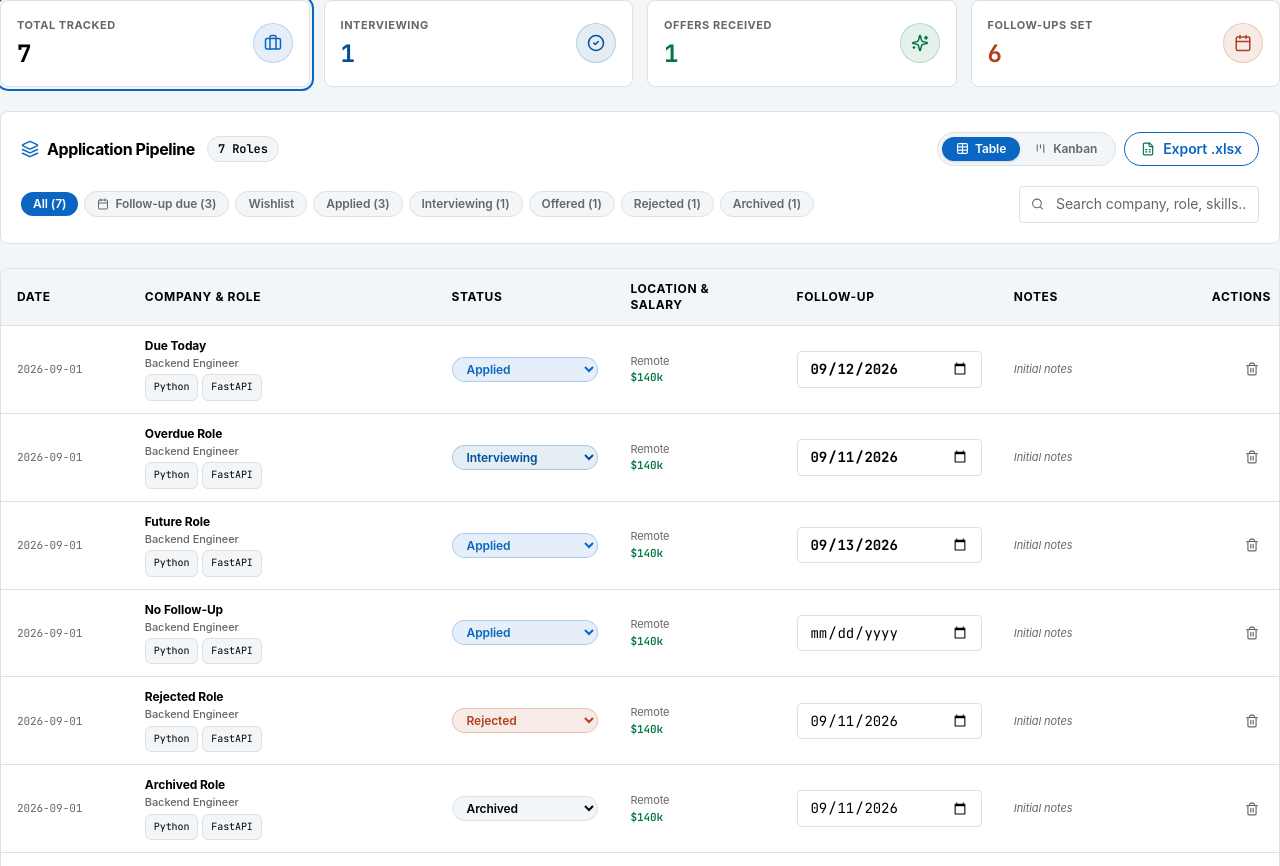
Scenario: ApplicationsTracker state synchronization and local dates (B12, B13, B15) › uses the Offers Received 1 card to replace existing filters and search
The width and height of the screenshot is (1280, 866).
Click the button "Follow-up due (3)" at [157, 204], box [84,192,230,218]
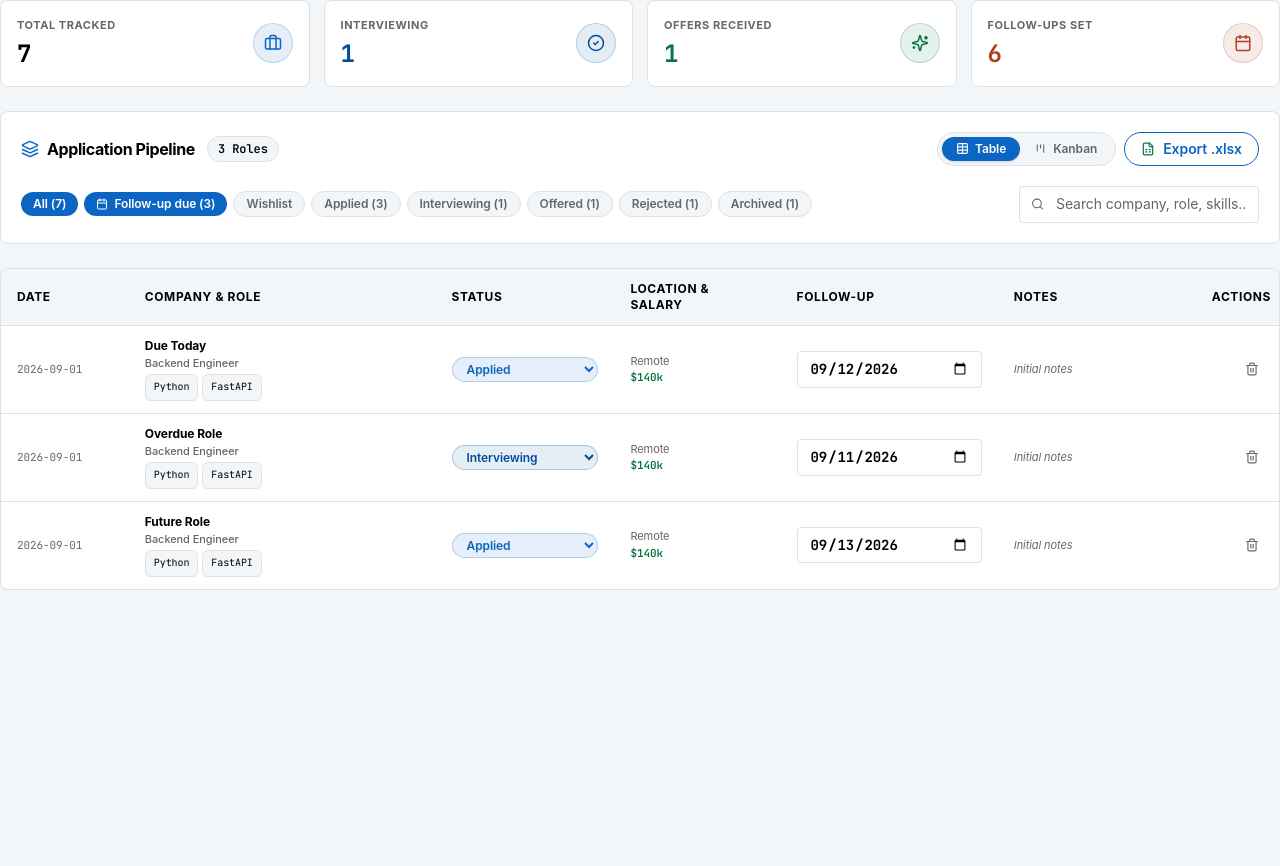
Click the button "Applied (3)" at [356, 204], box [311,192,401,218]
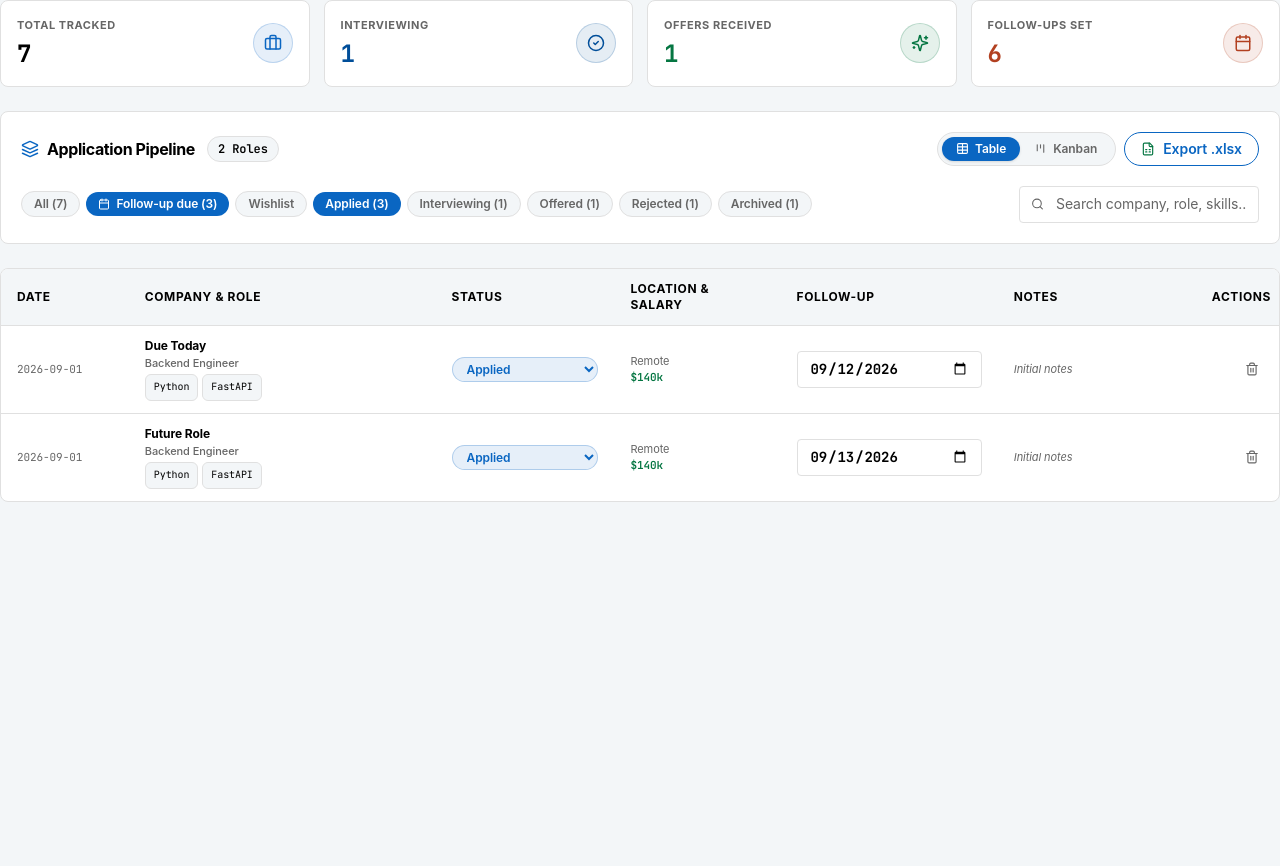
Type "nonmatching search" into the field with placeholder "Search company, role, skills..." at [1139, 205], box [1019,186,1259,223]
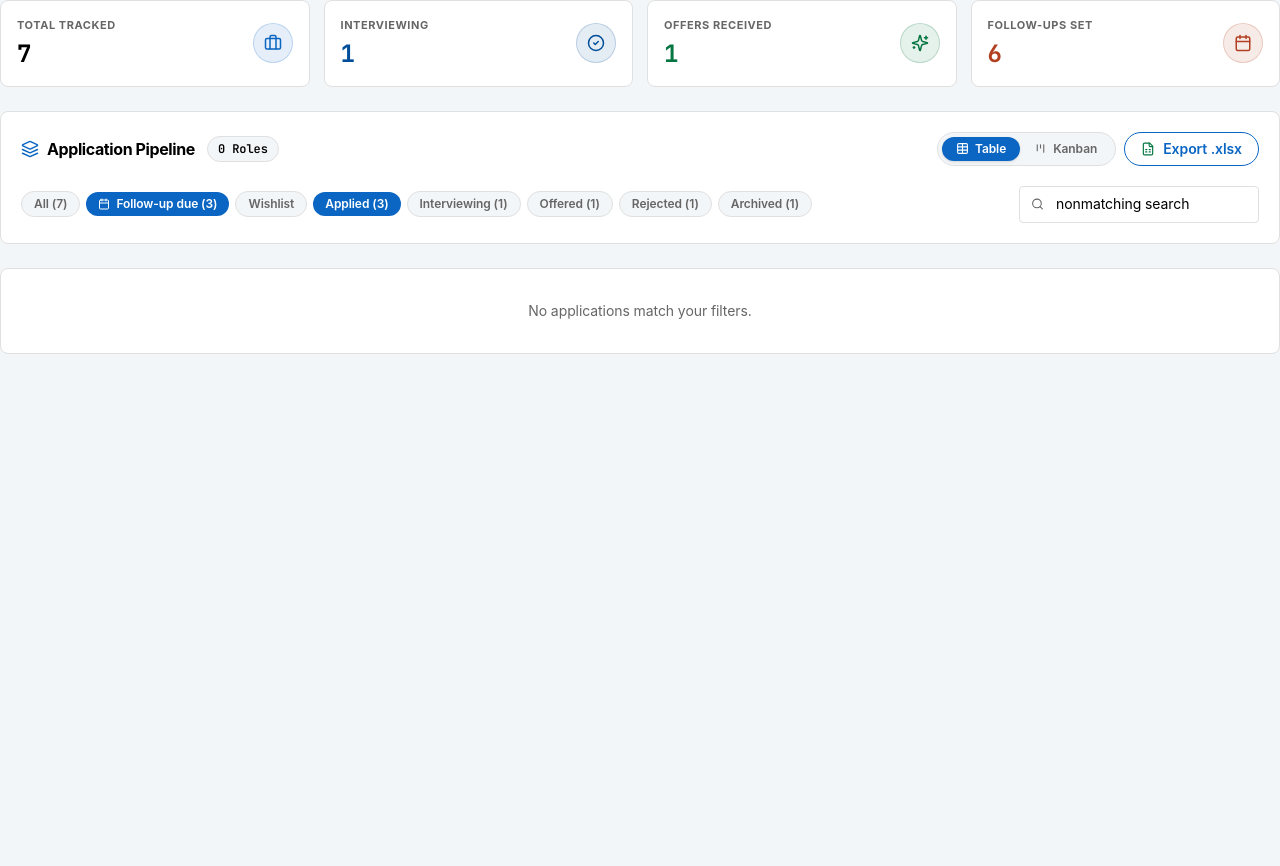
Click the button "Offers Received 1" at [718, 25], box [647,0,956,86]
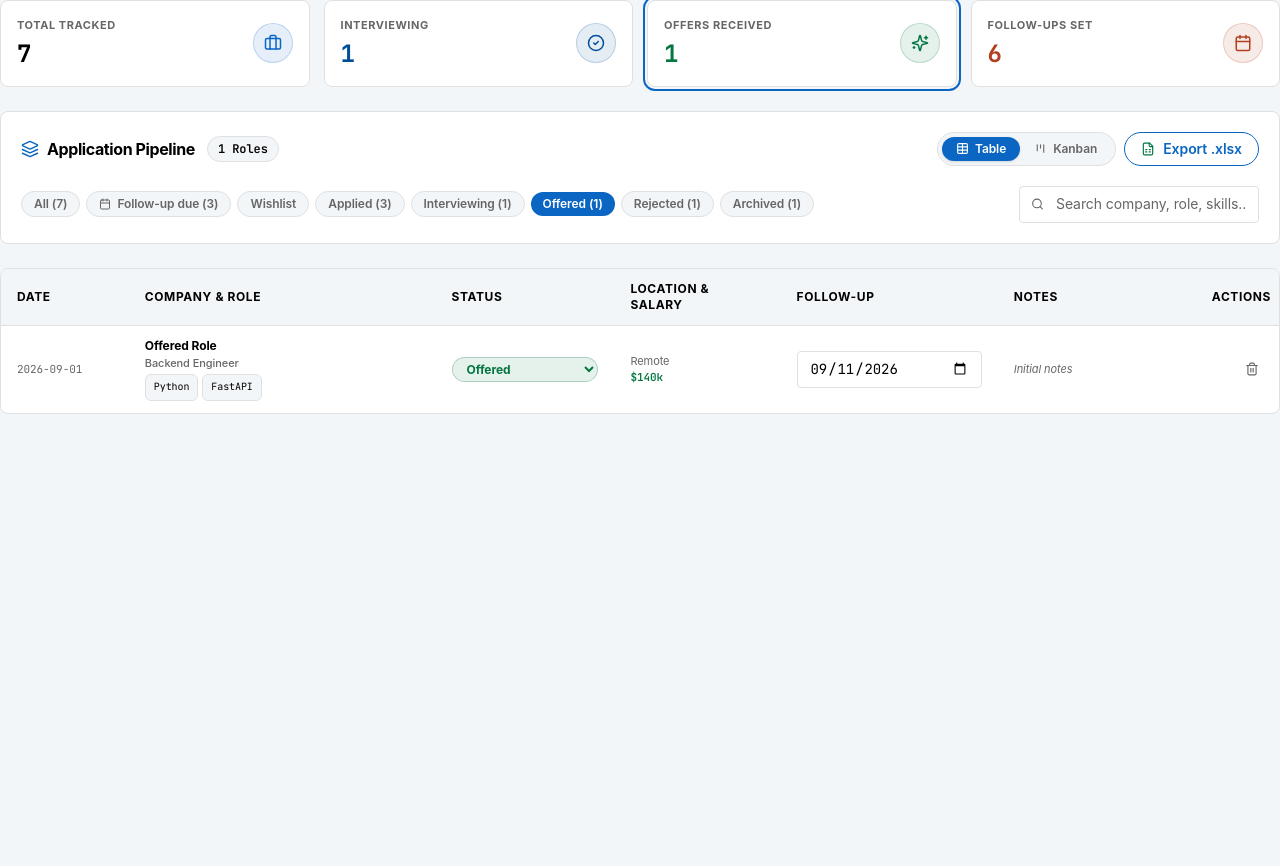
Expected: the text "Due Today" is not shown
Result: the field with placeholder "Search company, role, skills..." is empty at [1019,186,1259,223]
Result: the text "Offered Role" is shown at [145,338,217,354]
